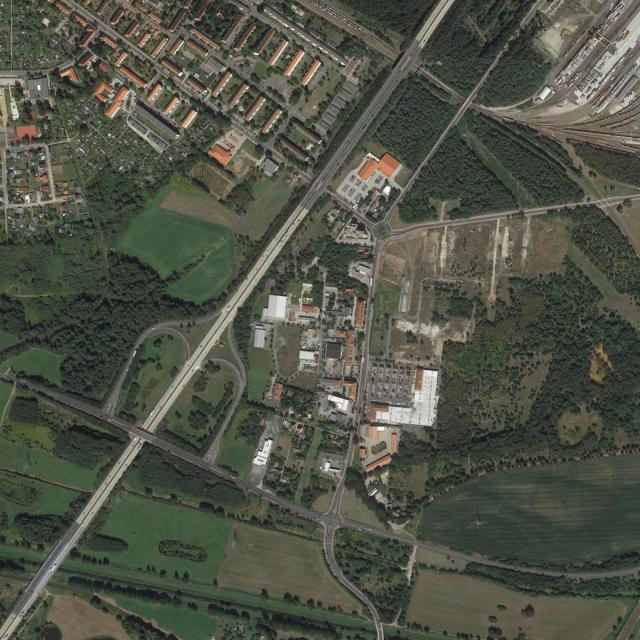large-vehicle: (569, 45, 574, 53), (51, 564, 56, 571), (3, 634, 8, 640), (150, 410, 155, 416), (230, 475, 237, 479), (563, 53, 568, 58), (581, 31, 586, 36), (133, 350, 136, 357), (20, 611, 24, 616), (363, 125, 367, 130), (556, 63, 560, 68), (576, 38, 580, 43), (134, 436, 138, 441), (371, 278, 373, 286), (363, 357, 365, 364), (316, 518, 320, 520)
small-vehicle: (359, 529, 362, 531), (369, 529, 371, 530)
